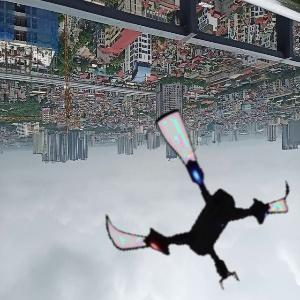drone: (98, 104, 292, 298)
